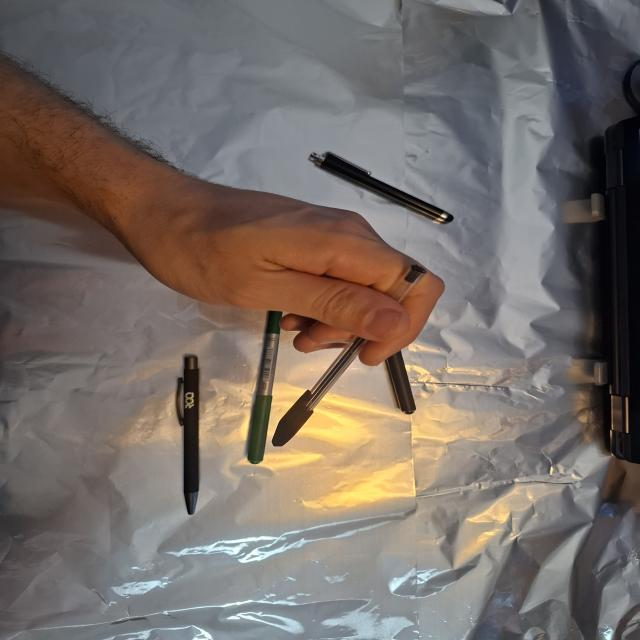glove_off: (111, 169, 448, 368)
